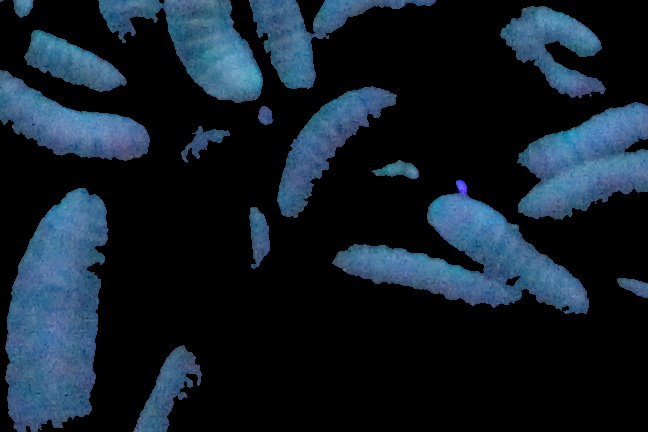larvae: (6, 190, 114, 432), (426, 192, 603, 313), (1, 60, 153, 182), (323, 250, 535, 331), (282, 84, 403, 221), (508, 90, 648, 176), (160, 1, 263, 110), (195, 196, 276, 323), (495, 7, 604, 95), (126, 337, 219, 432), (512, 162, 648, 224), (9, 36, 132, 98), (311, 1, 444, 48), (253, 1, 316, 94)
